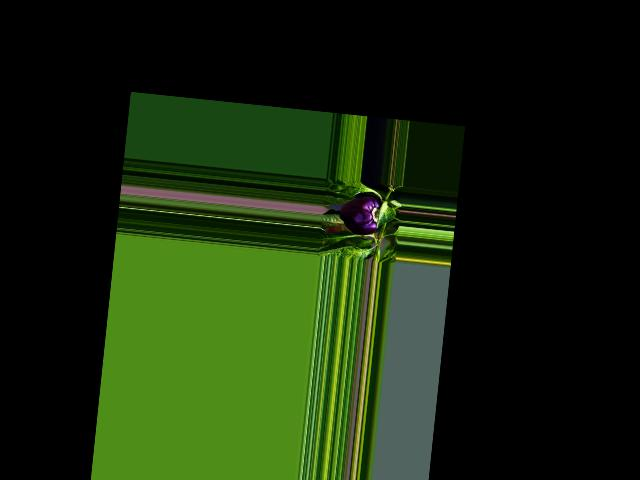bell_pepper: (335, 193, 386, 238)
